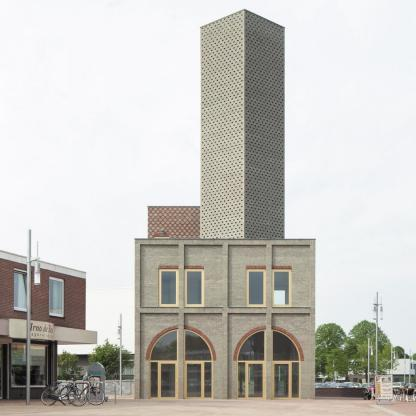Building Outline: (133, 8, 317, 400)
Cornice: (233, 325, 266, 360), (145, 325, 178, 360), (271, 325, 304, 360), (184, 325, 217, 360), (272, 266, 292, 269), (185, 266, 205, 269), (246, 266, 266, 269), (159, 266, 179, 269), (154, 234, 170, 237)
Door: (273, 362, 291, 398), (159, 362, 177, 398), (186, 362, 204, 398), (247, 362, 265, 398)
Facade: (133, 8, 318, 400)
Floor Slab: (135, 308, 315, 314)
Window: (238, 330, 264, 360), (151, 330, 177, 360), (185, 330, 211, 360), (273, 331, 299, 360), (274, 271, 289, 305), (161, 271, 176, 305), (187, 271, 202, 305), (249, 271, 264, 305), (150, 362, 158, 397), (204, 362, 212, 397), (238, 362, 246, 397), (292, 362, 299, 397)
